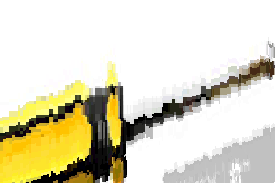screwdriver: (2, 53, 275, 183)
